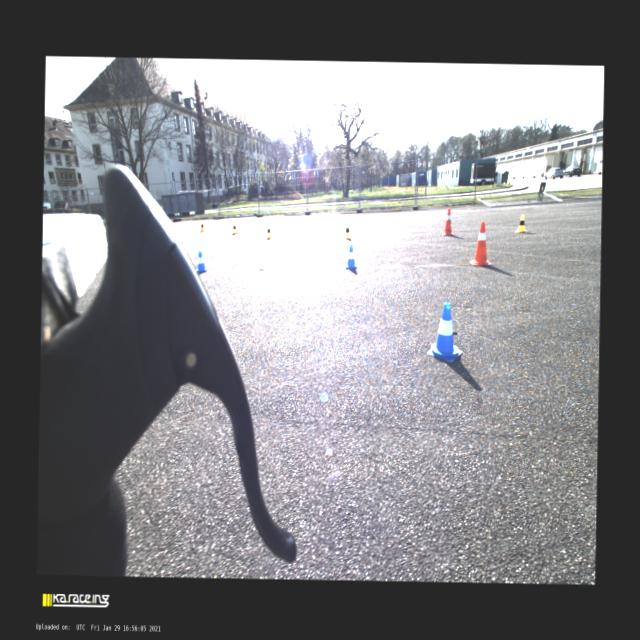blue_cone: (426, 302, 463, 362), (344, 244, 358, 269), (196, 250, 207, 272)
large_orange_cone: (469, 220, 492, 266), (442, 207, 454, 234)
yellow_cone: (515, 214, 526, 232), (344, 223, 351, 240), (231, 223, 237, 235), (266, 226, 272, 238), (198, 221, 204, 232)
